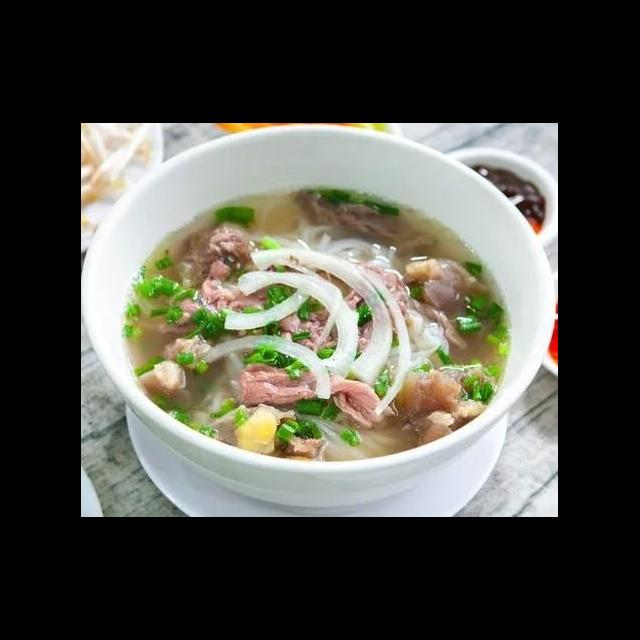banh pho: (310, 409, 404, 467), (276, 227, 404, 269)
pho bo: (83, 149, 556, 517)
thit bo: (223, 356, 400, 432), (274, 262, 411, 356), (396, 250, 500, 354), (394, 359, 499, 453), (156, 275, 304, 337), (134, 330, 225, 401), (294, 184, 402, 242)
